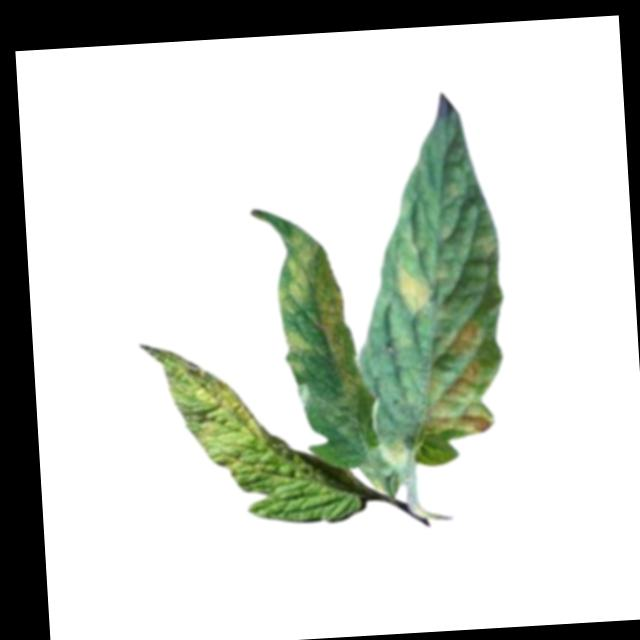Leaf_Mold: (137, 336, 282, 486), (274, 218, 361, 403), (415, 313, 502, 436), (393, 262, 435, 316)
